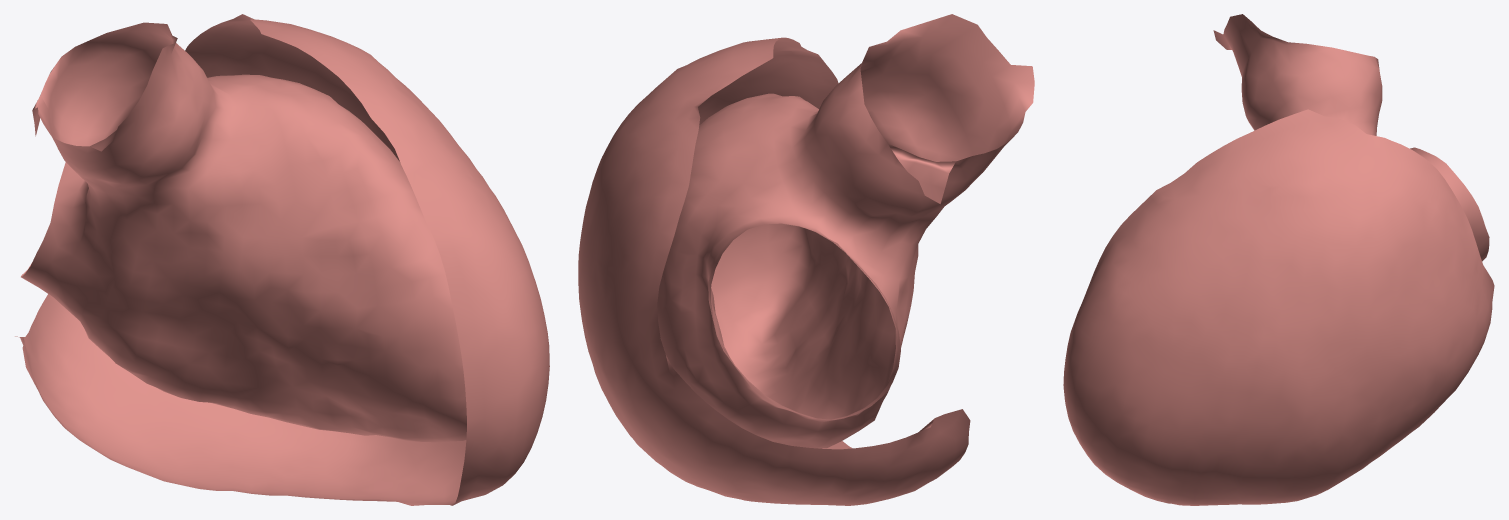
The model's file is ventriculo_esquerdo.glb.
3 renders of one model, left to right at view 1: azimuth 30°, elevation 25°; view 2: azimuth 150°, elevation 25°; view 3: azimuth 270°, elevation 25°, orthographic. The views are drawn at different scales.
Parts seen in each view (by area): view 1: ventriculo_esquerdo; view 2: ventriculo_esquerdo; view 3: ventriculo_esquerdo.
Part boxes in pixels (bbox=[...]): ventriculo_esquerdo: bbox=[15, 14, 549, 505]; ventriculo_esquerdo: bbox=[578, 14, 1034, 505]; ventriculo_esquerdo: bbox=[1063, 14, 1494, 505].
Size of the model in its own units: 0.08 by 0.0901 by 0.0876.
